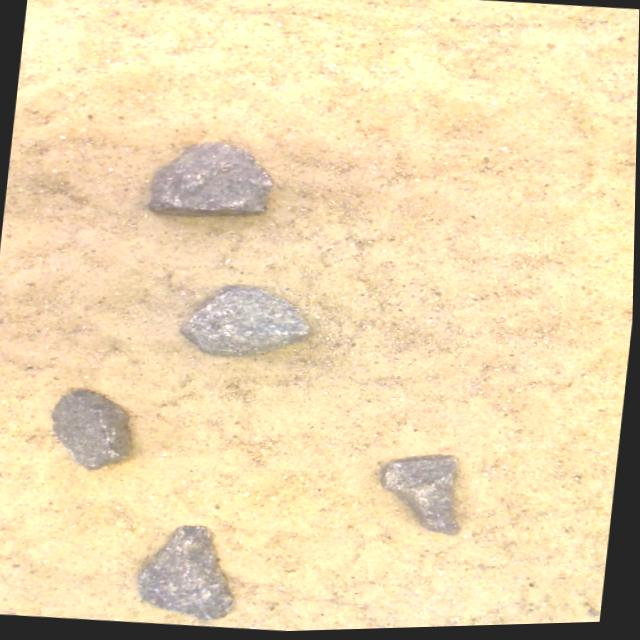rock: (183, 285, 312, 356), (150, 143, 274, 216), (143, 525, 236, 620), (384, 456, 462, 536), (56, 390, 132, 468)
